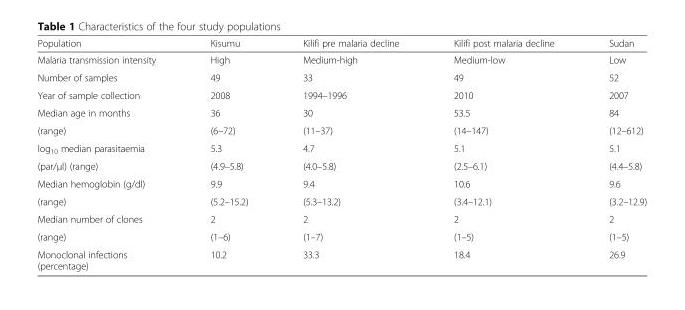table: (36, 37, 646, 271)
table column: (425, 37, 580, 271), (274, 37, 425, 271), (36, 37, 182, 271), (182, 37, 274, 271), (580, 37, 646, 271)
table column header: (36, 37, 646, 51)
table row: (36, 245, 646, 271), (36, 85, 646, 103), (36, 103, 646, 121), (36, 121, 646, 139), (36, 156, 646, 174), (36, 174, 646, 192), (36, 209, 646, 227), (36, 227, 646, 245), (36, 51, 646, 68), (36, 68, 646, 85), (36, 139, 646, 156), (36, 192, 646, 209), (36, 37, 646, 51)
